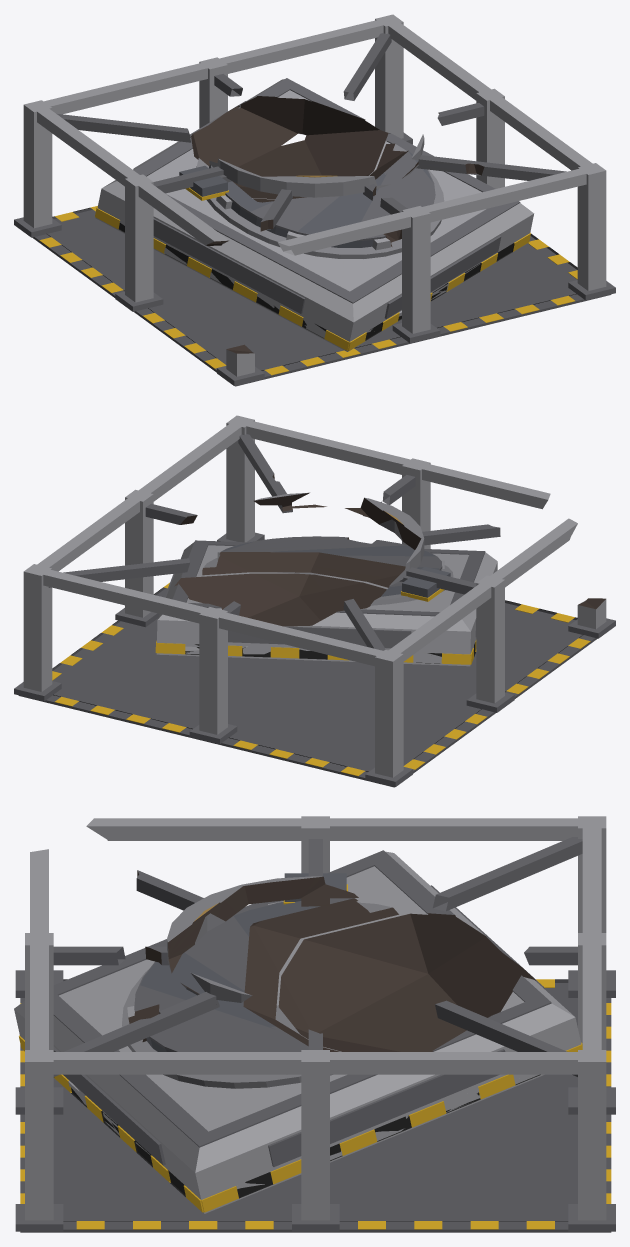
The model's file is vge_d_mediumweaponplatform.obj.
3 renders of one model, top to bottom at view 1: azimuth 30°, elevation 25°; view 2: azimuth 150°, elevation 25°; view 3: azimuth 270°, elevation 25°, orthographic. The views are drawn at different scales.
Parts seen in each view (by area): view 1: vge_d_mediumweaponplatform; view 2: vge_d_mediumweaponplatform; view 3: vge_d_mediumweaponplatform.
Boxes of the visible parts, x1,y1,x2,y2 form: vge_d_mediumweaponplatform: (14,14,615,386); vge_d_mediumweaponplatform: (14,415,615,787); vge_d_mediumweaponplatform: (14,816,615,1232).
Bounding box in the file's own units: 5.04 × 1.57 × 5.05.
